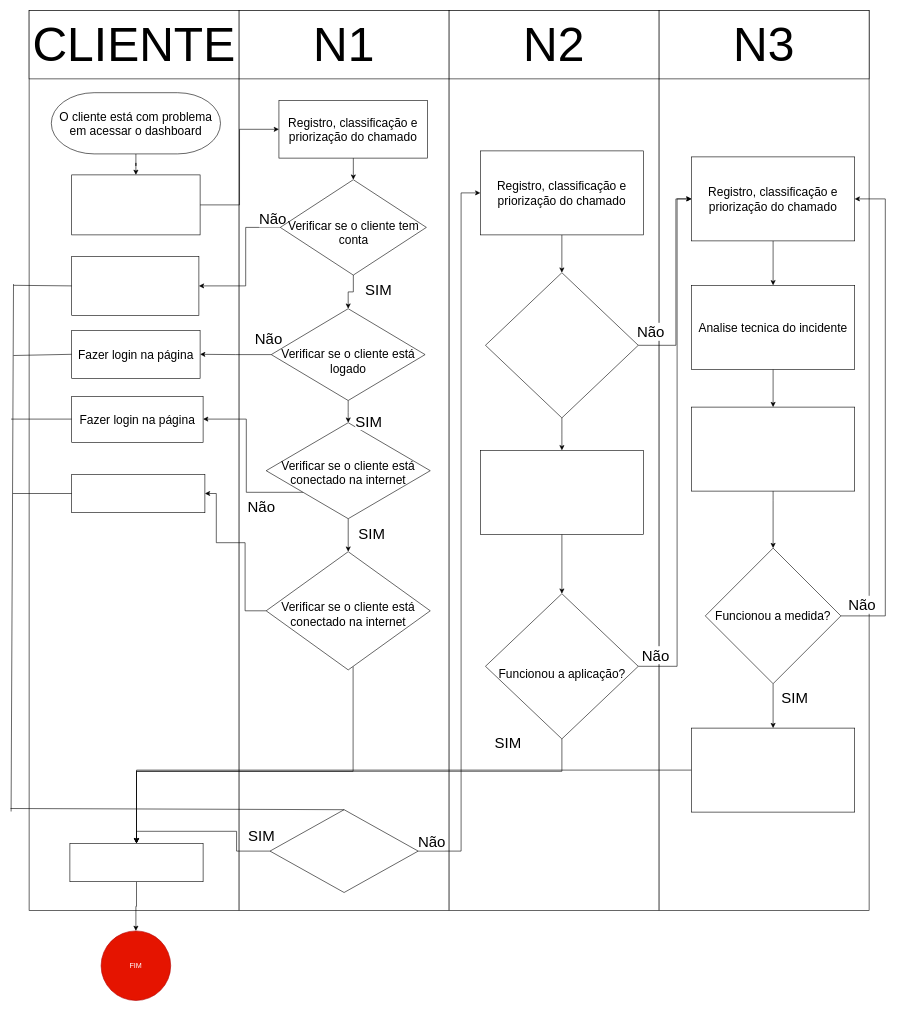
Some shapes in this 901 by 1011 pixel diagram are drawn without their labels. The centre of each missing label's shape, as x and y in pixels:
"Abre o chamado" belongs at point (135, 204).
"Analisar e aplicar medida" belongs at point (562, 492).
"Catalogar no banco de conhecimento" belongs at point (773, 770).
"Conectar a internet" belongs at point (138, 493).
"Crição de uma medida provisoria" belongs at point (773, 448).
"Fazer o cadastro no site" belongs at point (135, 285).
"Finalizar atendimento" belongs at point (136, 862).
"Funcionou?" belongs at point (343, 850).
"Tem antecedente na base de conhecimnto" belongs at point (561, 345).
